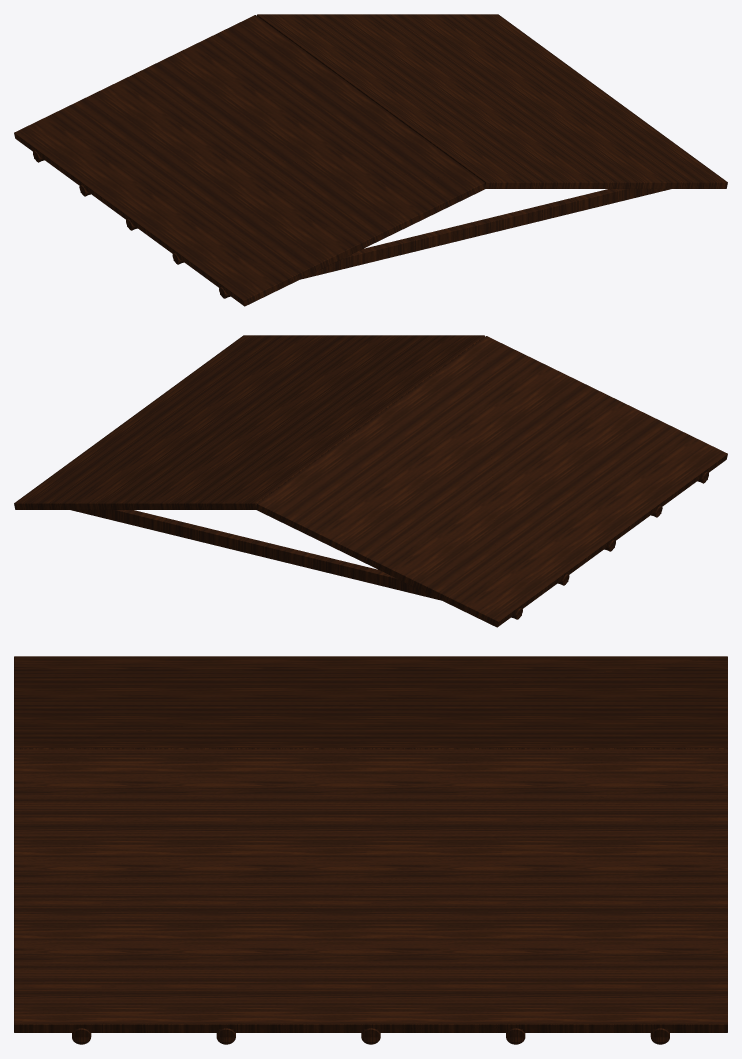
Rendered from roof.glb.
3 views of the same model, one above another, from view 1: azimuth 30°, elevation 25°; view 2: azimuth 150°, elevation 25°; view 3: azimuth 270°, elevation 25° (orthographic). The views are drawn at different scales.
Parts seen in each view (by area): view 1: mountain-cabin roof; view 2: mountain-cabin roof; view 3: mountain-cabin roof.
Part boxes in pixels (x1,y1,x2,y2): mountain-cabin roof: [14, 14, 727, 306]; mountain-cabin roof: [14, 335, 727, 627]; mountain-cabin roof: [14, 656, 727, 1044].
Bounding box in the file's own units: 9.04 × 1.3 × 7.4.
Materials: 1 (1 with a texture image).
